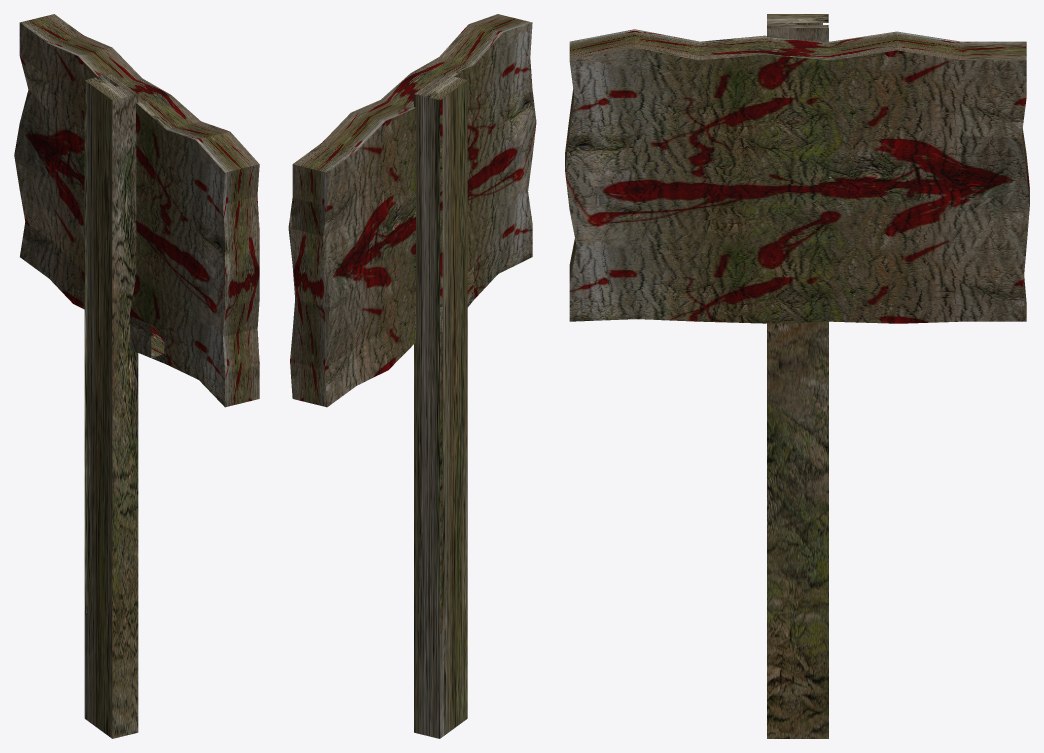
File: signboard.fbx
The picture shows the model from 3 angles, left to right: view 1: azimuth 30°, elevation 25°; view 2: azimuth 150°, elevation 25°; view 3: azimuth 270°, elevation 25°; orthographic projection. The views are drawn at different scales.
Visible parts, largest first — view 1: Sign board, Cube.001; view 2: Sign board, Cube.001; view 3: Sign board, Cube.001.
Boxes of the visible parts, box(x1,y1,x2,y2) form: Sign board: box(14, 14, 259, 407); Cube.001: box(84, 73, 138, 738); Sign board: box(288, 14, 536, 407); Cube.001: box(414, 74, 467, 738); Sign board: box(565, 29, 1029, 323); Cube.001: box(767, 14, 828, 738).
Bounding box in the file's own units: 7.42 × 69.67 × 41.28.
Materials: 2 (2 with a texture image).
